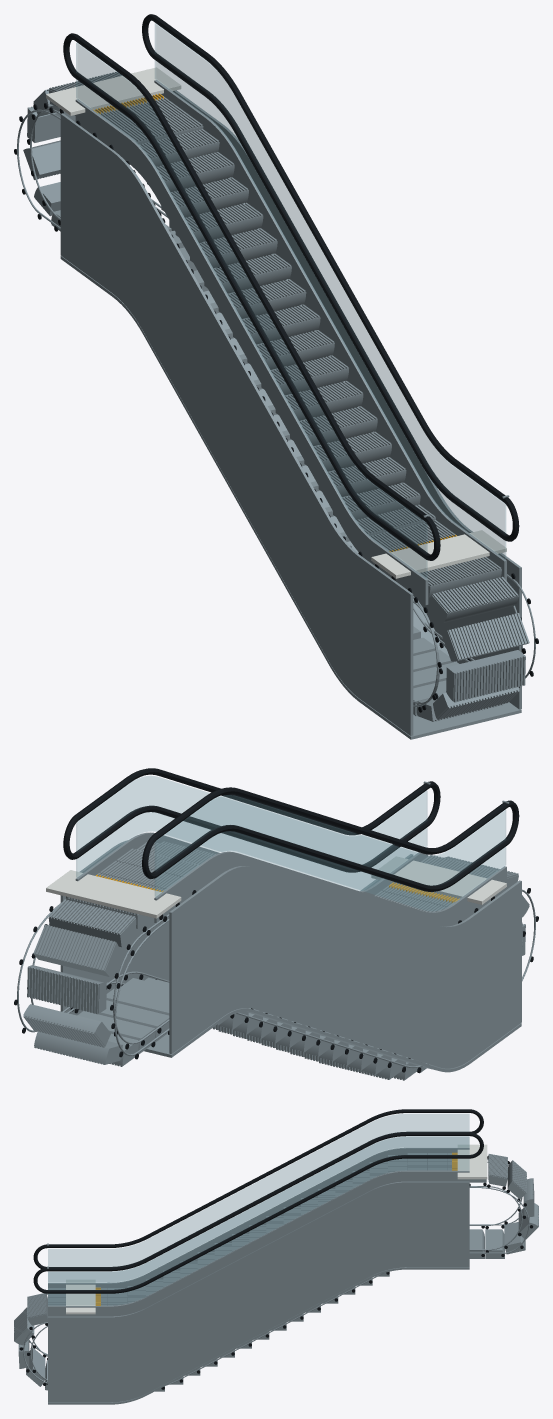
The picture shows the model from 3 angles, top to bottom: view 1: azimuth 30°, elevation 25°; view 2: azimuth 150°, elevation 25°; view 3: azimuth 270°, elevation 25°; orthographic projection. The views are drawn at different scales.
Visible parts, largest first — view 1: TRUSS_L, GUARD_L, GUARD_R, SKIRT_L, HANDRAIL_R, HANDRAIL_L, SKIRT_R, TRUSS_R, TRUSS_Bottom, STEP_BODY_55, LANDING_Lower, LANDING_Upper (+25 smaller); view 2: TRUSS_L, GUARD_L, GUARD_R, HANDRAIL_L, HANDRAIL_R, SKIRT_L, TRUSS_R, LANDING_Upper, STEP_BODY_25, STEP_BODY_26, STEP_BODY_24, LANDING_Lower (+29 smaller); view 3: TRUSS_R, GUARD_R, GUARD_L, SKIRT_R, HANDRAIL_R, SKIRT_L, HANDRAIL_L, TRUSS_Bottom, LANDING_Upper, LANDING_Lower, TRACK_GUIDE_R, STEP_BODY_57 (+9 smaller).
Part boxes in pixels (<box>): TRUSS_L: <box>60,113,413,735</box>; GUARD_L: <box>76,43,427,578</box>; GUARD_R: <box>155,23,505,559</box>; SKIRT_L: <box>75,99,428,604</box>; HANDRAIL_R: <box>142,14,519,541</box>; HANDRAIL_L: <box>63,33,440,560</box>; SKIRT_R: <box>154,80,506,580</box>; TRUSS_R: <box>169,90,521,709</box>; TRUSS_Bottom: <box>60,256,521,739</box>; STEP_BODY_55: <box>446,650,525,702</box>; LANDING_Lower: <box>371,530,506,578</box>; LANDING_Upper: <box>46,67,181,115</box>; TRUSS_L: <box>169,866,521,1068</box>; GUARD_L: <box>155,795,505,910</box>; GUARD_R: <box>76,776,427,890</box>; HANDRAIL_L: <box>142,787,519,891</box>; HANDRAIL_R: <box>63,768,440,872</box>; SKIRT_L: <box>154,851,506,926</box>; TRUSS_R: <box>60,840,413,1015</box>; LANDING_Upper: <box>46,870,181,918</box>; STEP_BODY_25: <box>33,924,119,976</box>; STEP_BODY_26: <box>27,965,106,1014</box>; STEP_BODY_24: <box>48,899,136,947</box>; LANDING_Lower: <box>371,856,506,904</box>; TRUSS_R: <box>48,1181,469,1402</box>; GUARD_R: <box>48,1137,469,1305</box>; GUARD_L: <box>48,1114,469,1281</box>; SKIRT_R: <box>48,1170,469,1316</box>; HANDRAIL_R: <box>33,1132,483,1293</box>; SKIRT_L: <box>48,1147,469,1297</box>; HANDRAIL_L: <box>33,1109,483,1268</box>; TRUSS_Bottom: <box>48,1267,469,1404</box>; LANDING_Upper: <box>457,1144,487,1179</box>; LANDING_Lower: <box>66,1279,95,1314</box>; TRACK_GUIDE_R: <box>23,1186,529,1385</box>; STEP_BODY_57: <box>27,1293,47,1325</box>.
Bounding box in the file's own units: 1.55 × 5.94 × 10.56.
